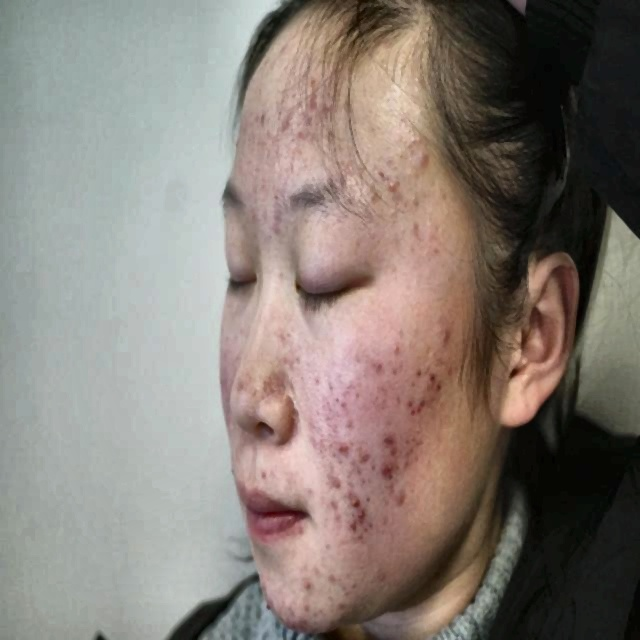pustule: (348, 511, 374, 532), (406, 387, 424, 417), (378, 177, 401, 198), (428, 369, 442, 400), (388, 494, 412, 512), (378, 460, 403, 477), (336, 436, 350, 465), (304, 84, 318, 112), (382, 430, 397, 456), (416, 144, 428, 174), (328, 468, 341, 494), (441, 328, 452, 354), (348, 495, 362, 511)
